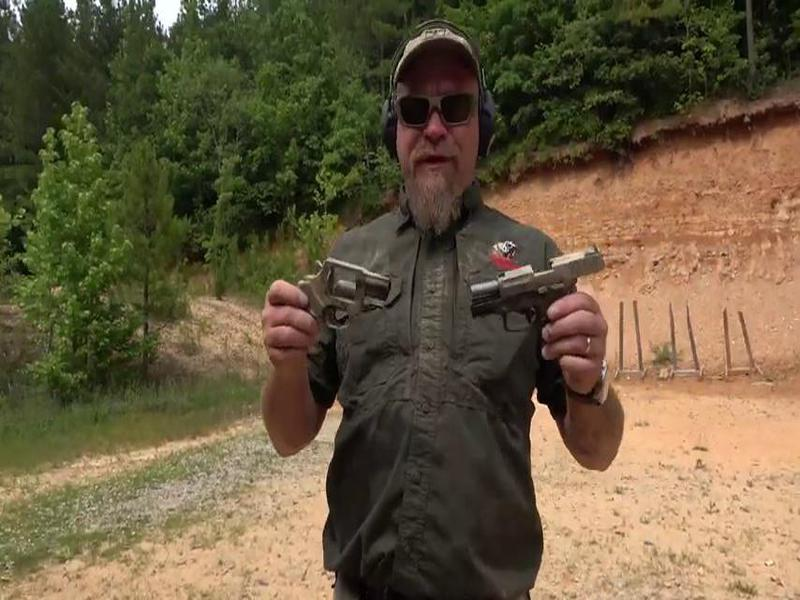Pistola: (467, 233, 607, 390)
Revolver: (272, 242, 396, 381)
